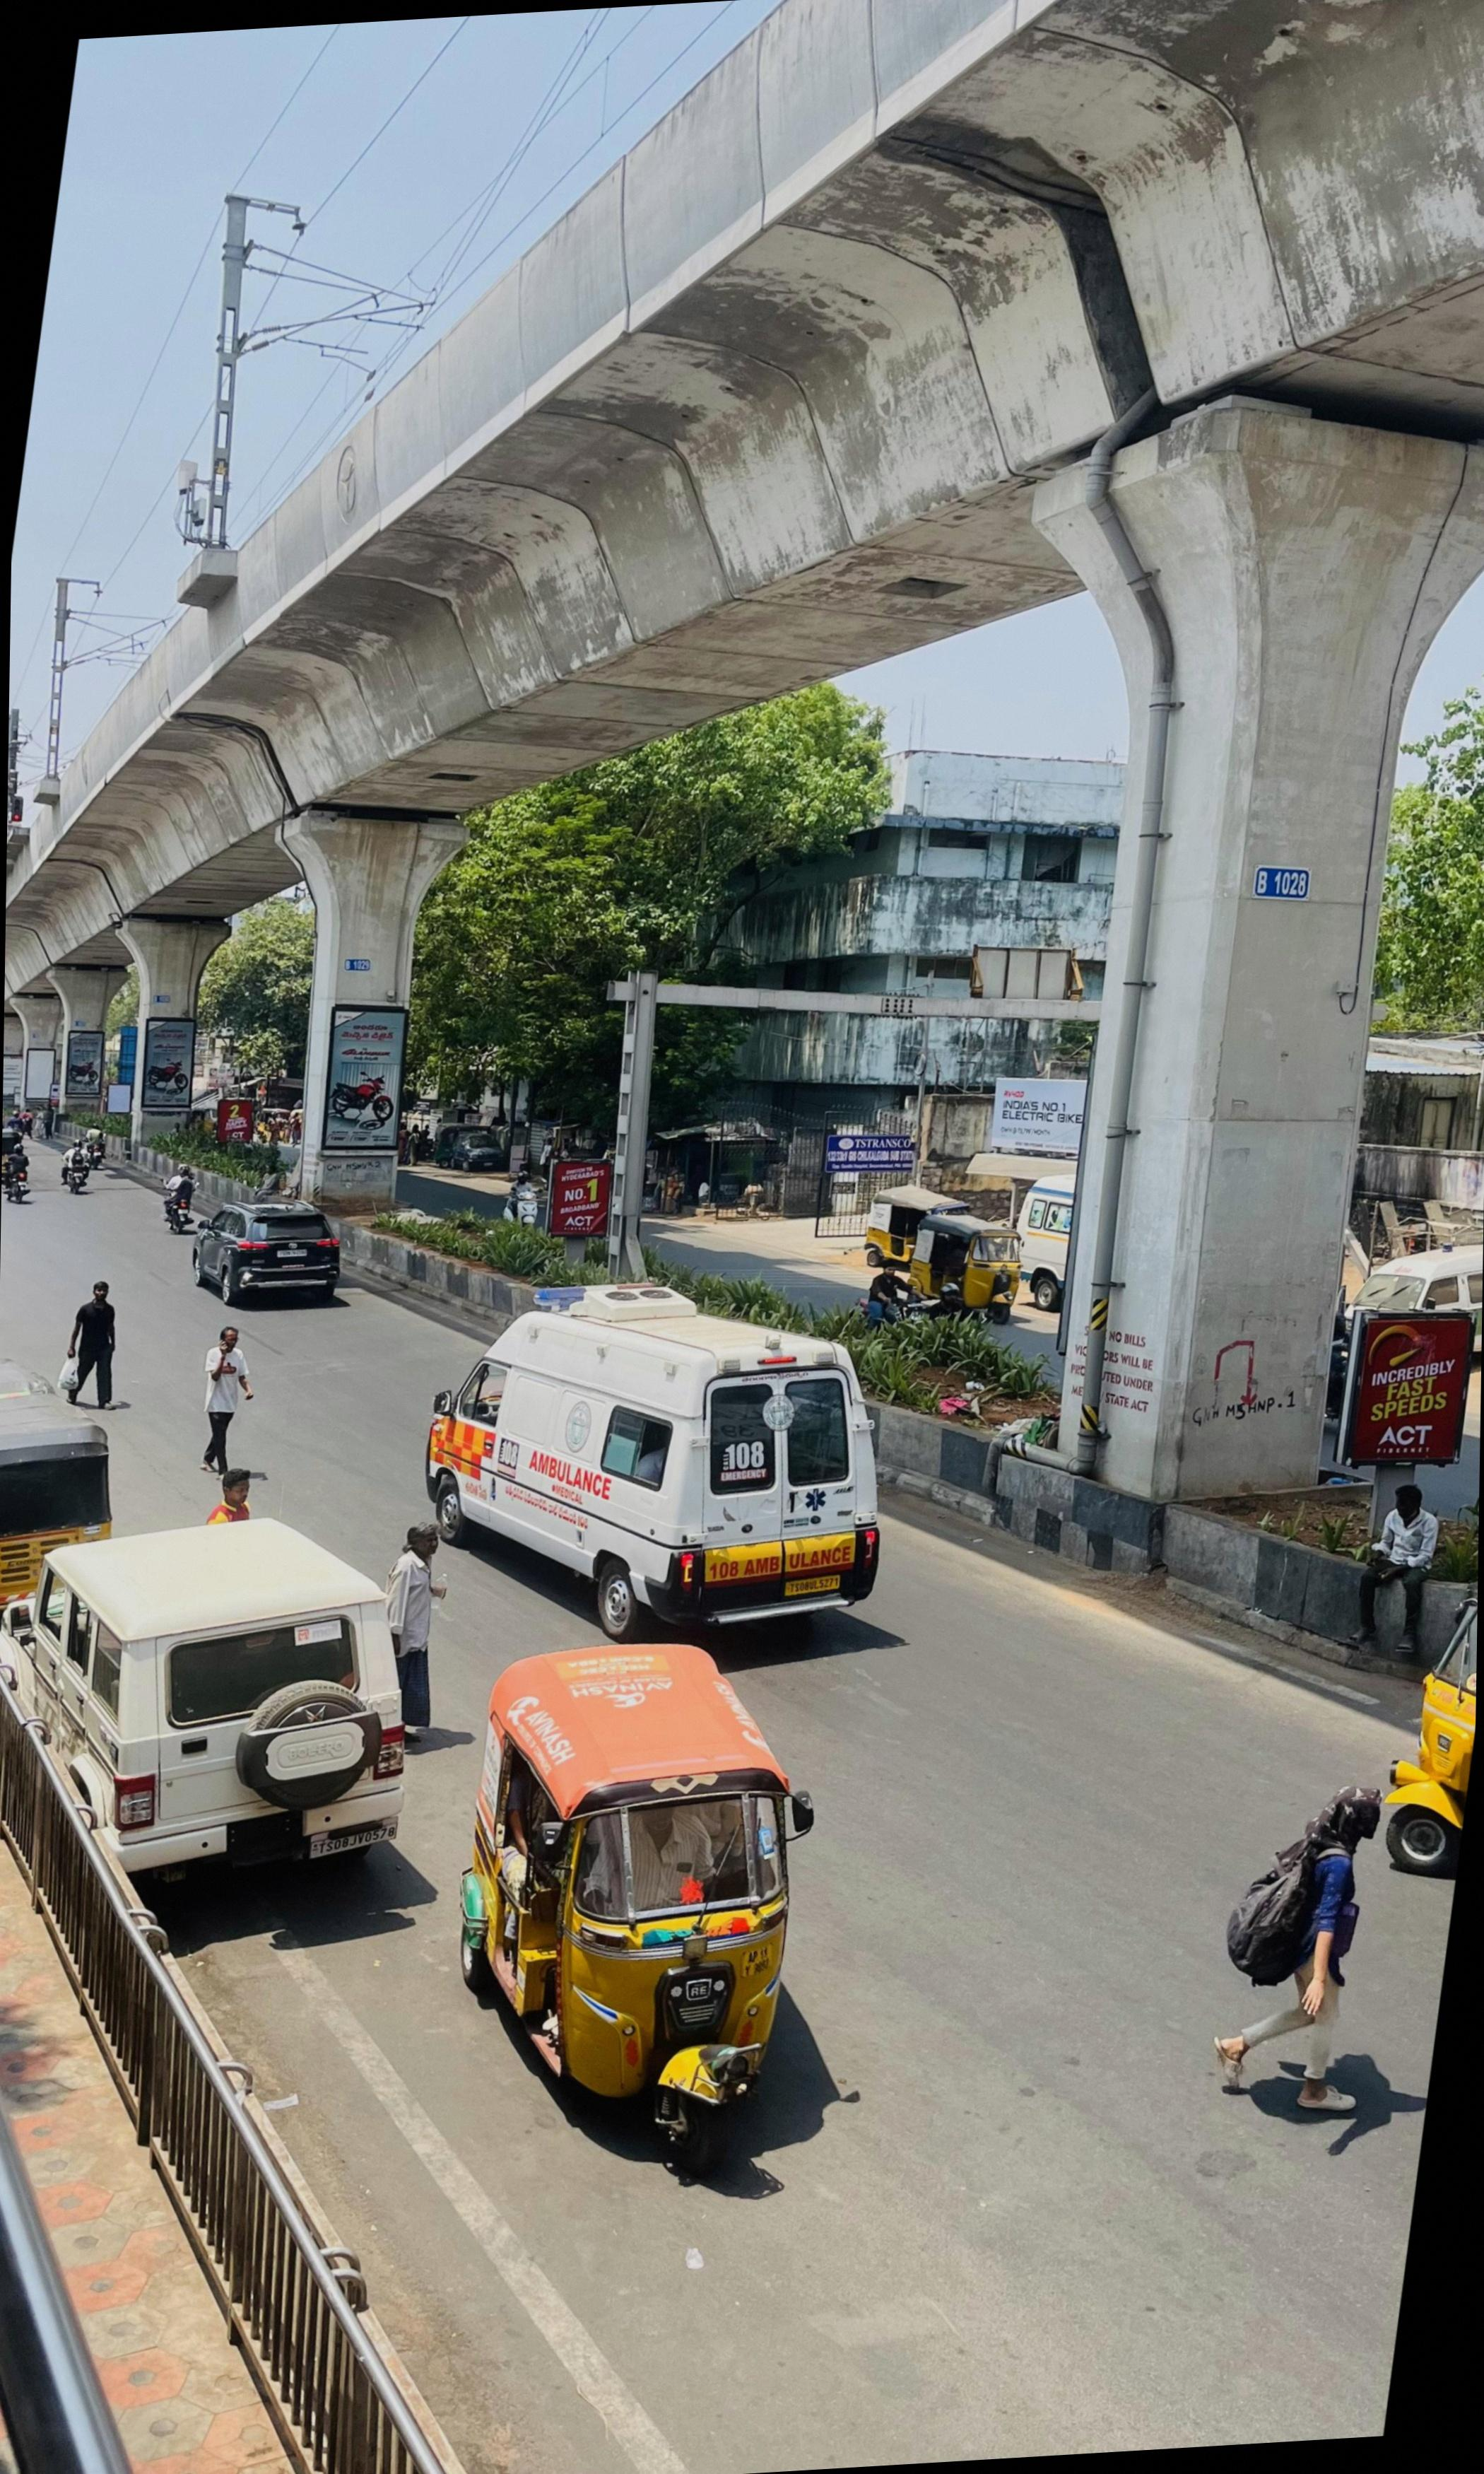ambulance: (424, 1283, 880, 1640)
